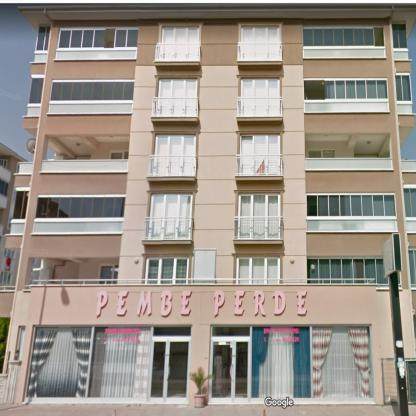door: (209, 338, 250, 402), (148, 338, 190, 400), (99, 264, 116, 283), (110, 152, 127, 158)
window: (25, 326, 191, 400), (211, 326, 374, 400), (307, 257, 389, 287), (307, 194, 395, 218), (304, 78, 388, 102), (35, 196, 125, 218), (58, 27, 138, 48), (50, 81, 134, 101), (304, 28, 384, 48), (237, 256, 279, 284), (145, 258, 189, 284), (238, 193, 280, 217), (150, 194, 192, 216), (155, 135, 195, 156), (240, 134, 279, 154), (241, 79, 280, 98), (159, 79, 196, 97), (161, 27, 199, 44), (242, 26, 280, 43), (396, 74, 412, 102), (13, 191, 28, 219), (36, 24, 50, 50), (29, 78, 43, 104), (393, 22, 406, 49), (404, 187, 415, 218), (409, 250, 415, 285), (308, 150, 335, 157), (0, 179, 8, 196), (0, 273, 10, 284), (4, 248, 14, 258), (0, 160, 7, 168)
